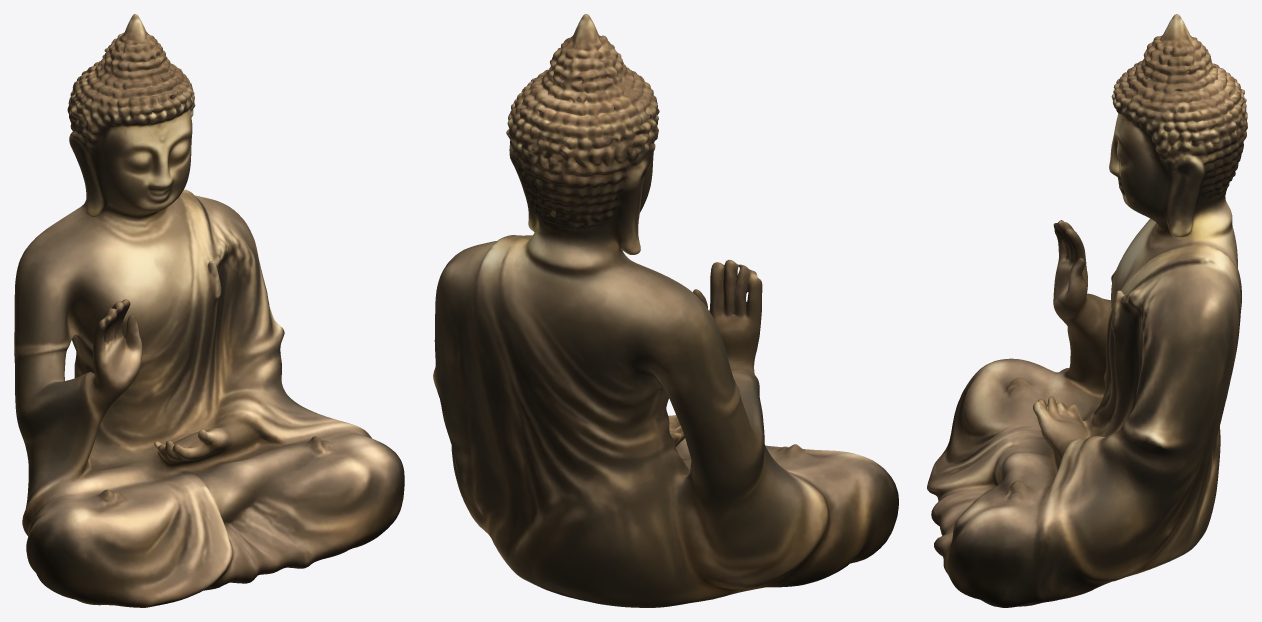
Rendered from buddha.glb.
The picture shows the model from 3 angles, left to right: view 1: azimuth 30°, elevation 25°; view 2: azimuth 150°, elevation 25°; view 3: azimuth 270°, elevation 25°; orthographic projection. The views are drawn at different scales.
Parts seen in each view (by area): view 1: world; view 2: world; view 3: world.
Boxes of the visible parts, <box> form: world: <box>14,14,404,607</box>; world: <box>433,14,898,607</box>; world: <box>927,14,1247,607</box>.
Size of the model in its own units: 0.7652 by 1 by 0.5637.
1 material, 1 textured.
